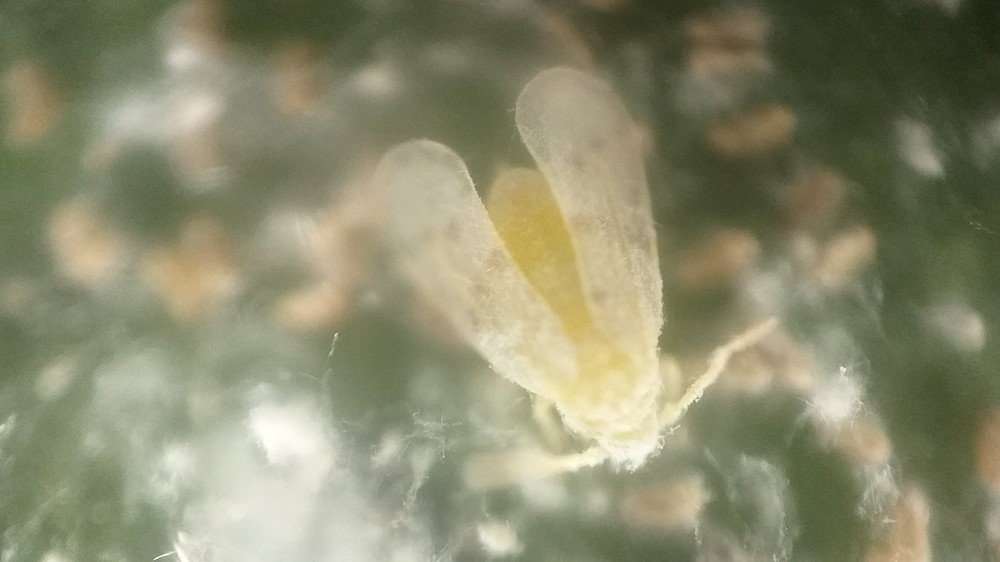Mosca Blanca: (354, 61, 794, 515)
